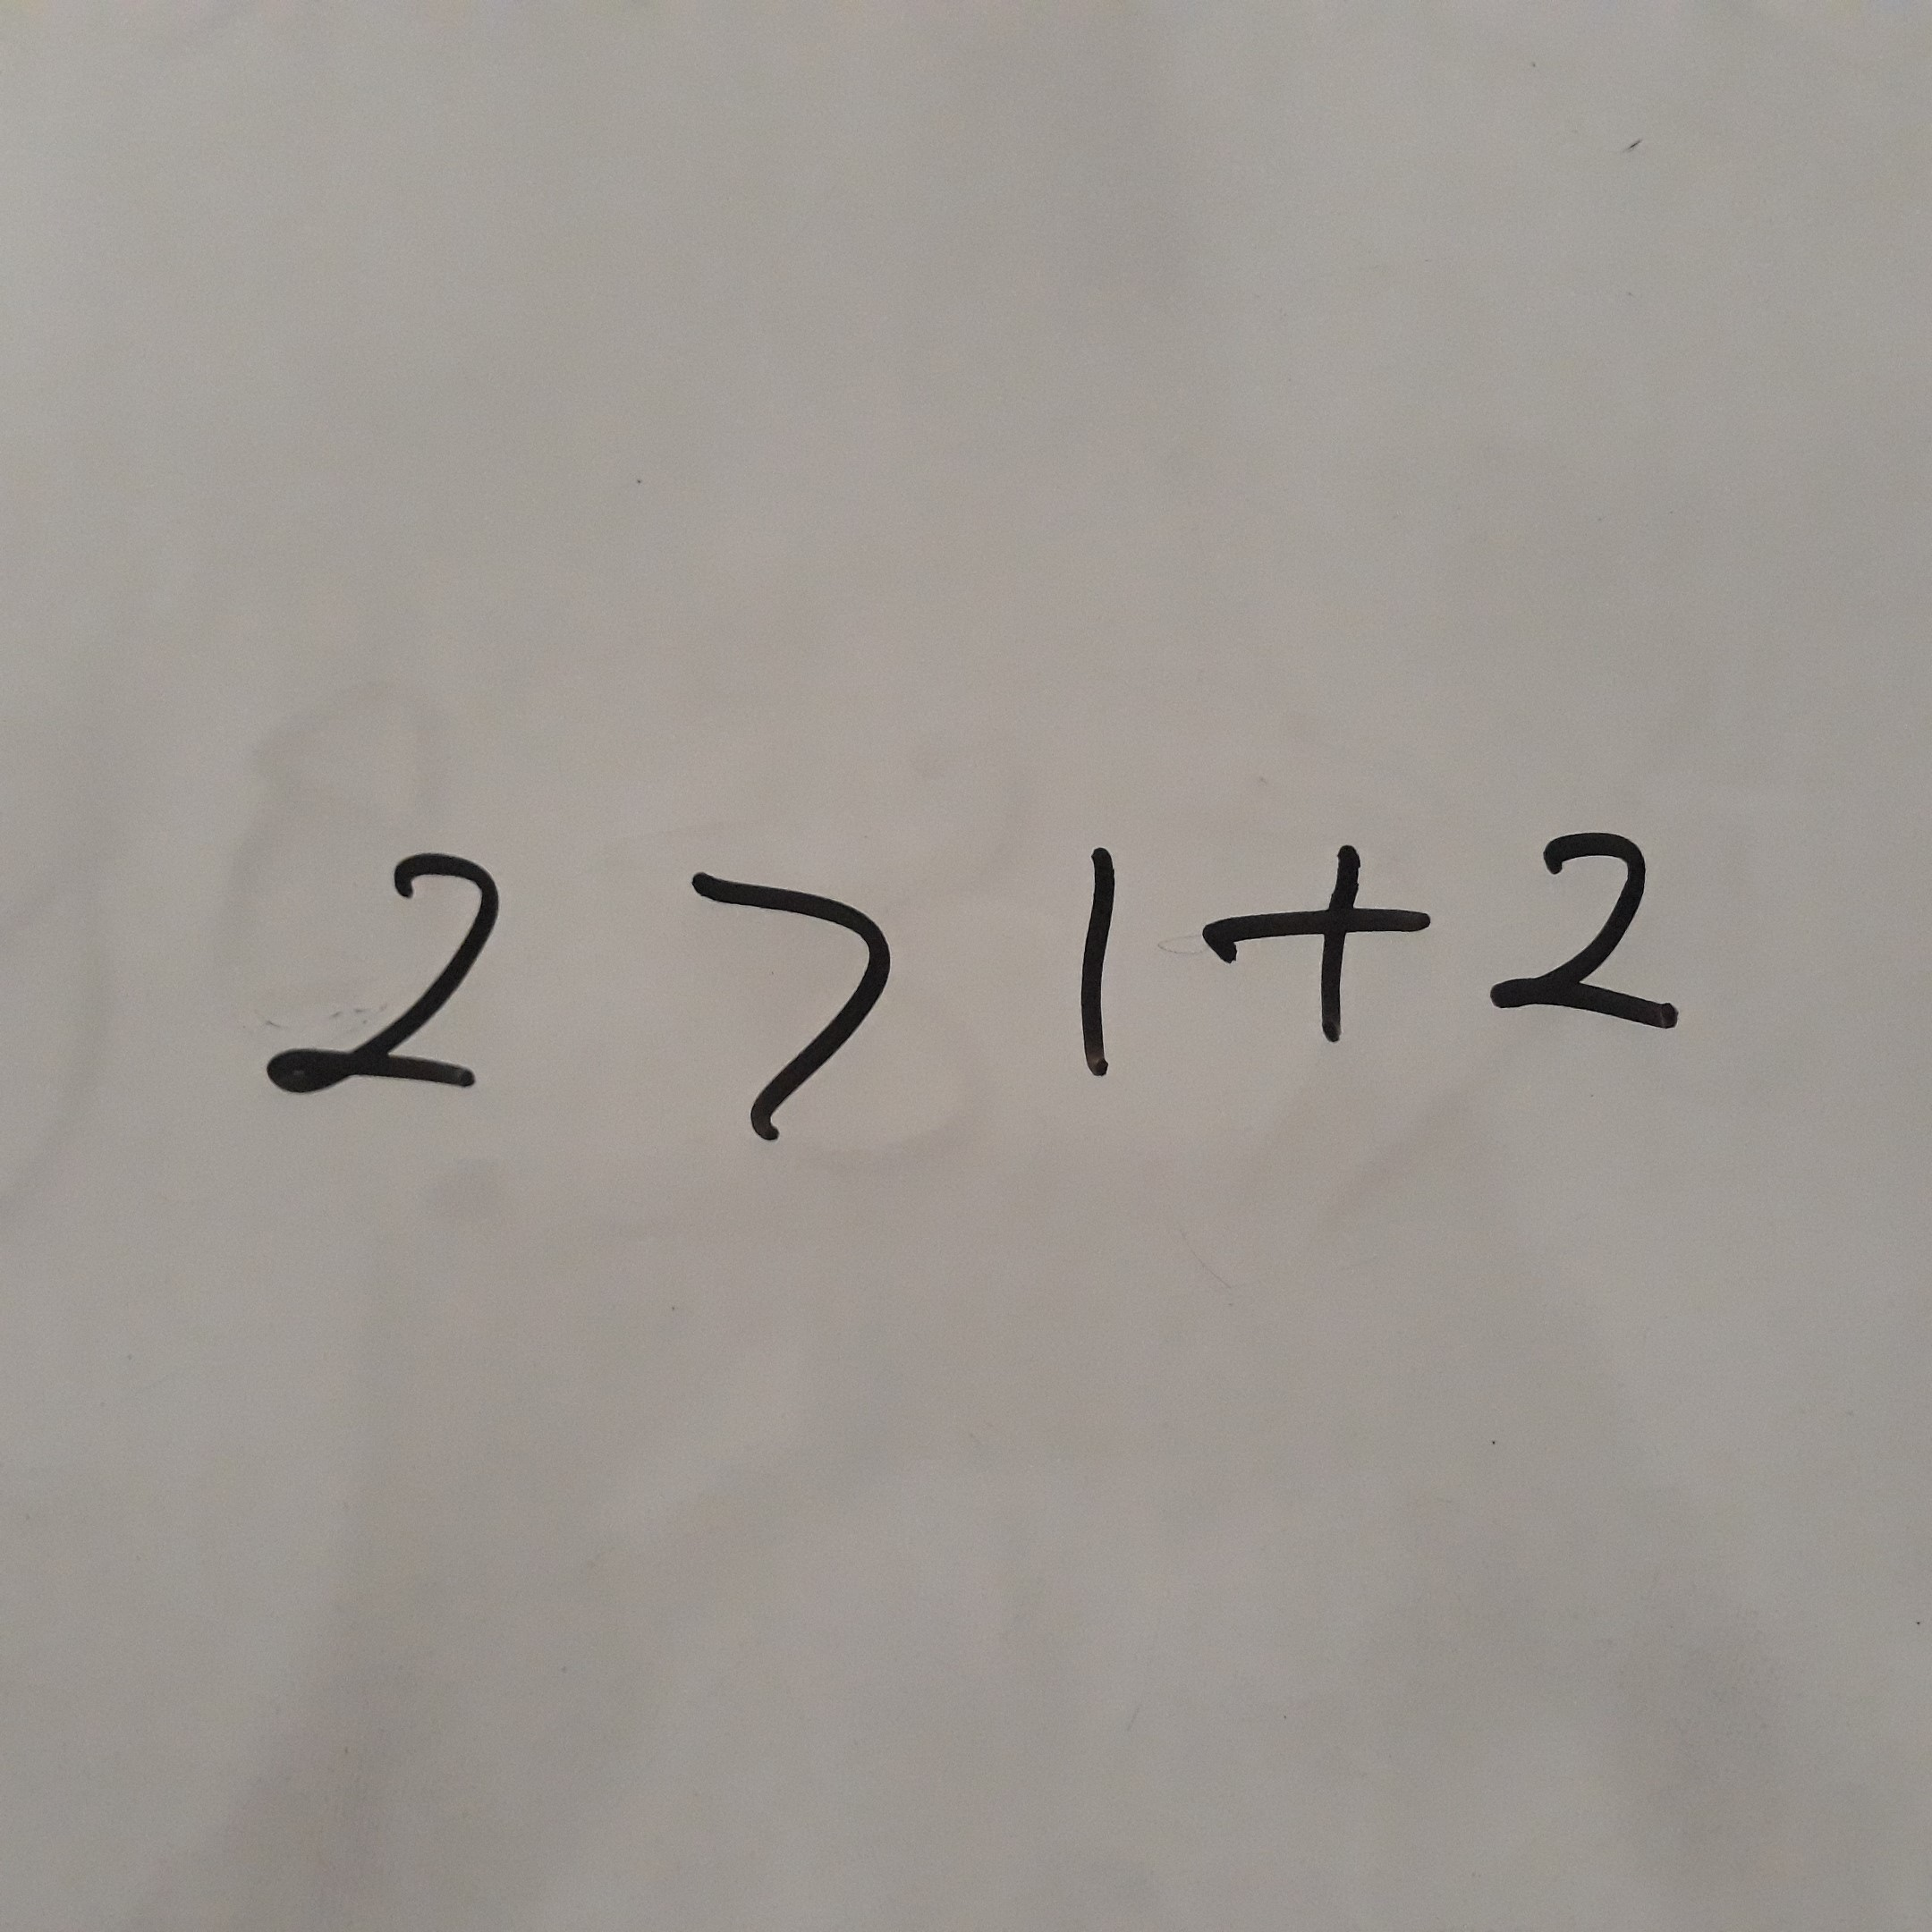morethan: (669, 838, 927, 1149)
num1: (1012, 818, 1165, 1104)
num2: (261, 821, 519, 1132), (1469, 822, 1723, 1051)
sum: (1191, 830, 1445, 1059)
